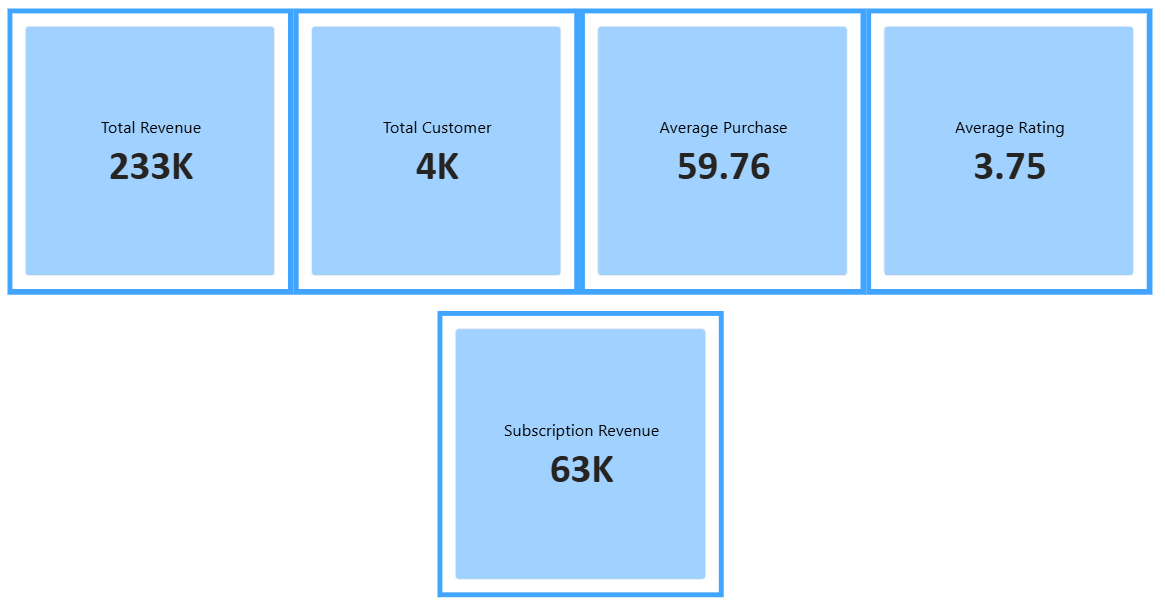

This screenshot's page, from the dashboard's own definition file:
{"tool":"powerbi","page":{"name":"KPI Cards","canvas":[1280,720],"ordinal":0},"visuals":[{"type":"cardVisual","fields":{"Data":["project.Total Revenue"]},"box":[95.9,37.2,279.9,279.9],"z":0},{"type":"cardVisual","fields":{"Data":["project.Total Customer"]},"box":[375.8,37.2,279.9,279.9],"z":1000},{"type":"cardVisual","fields":{"Data":["project.Average Purchase"]},"box":[655.7,37.2,279.9,279.9],"z":2000},{"type":"cardVisual","fields":{"Data":["project.Average Rating"]},"box":[935.7,37.2,279.9,279.9],"z":3000},{"type":"cardVisual","fields":{"Data":["project.Subscription Revenue"]},"box":[516,332.6,280,280],"z":4000}]}

Visuals, with their boxes on the page's 1280x720 design canvas (x1, y1, x2, y2). These are canvas units, not pixel positions in the 1165x600 screenshot, which may show the page scaled, cropped or inside an application window:
cardVisual - project.Total Revenue: region(96, 37, 376, 317)
cardVisual - project.Total Customer: region(376, 37, 656, 317)
cardVisual - project.Average Purchase: region(656, 37, 936, 317)
cardVisual - project.Average Rating: region(936, 37, 1216, 317)
cardVisual - project.Subscription Revenue: region(516, 333, 796, 613)
